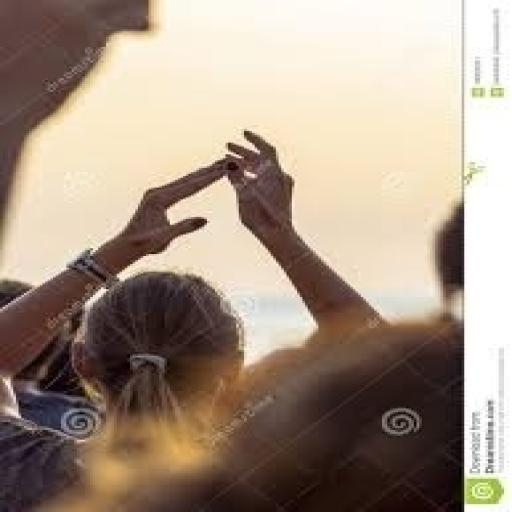clapping: (0, 127, 462, 510)
